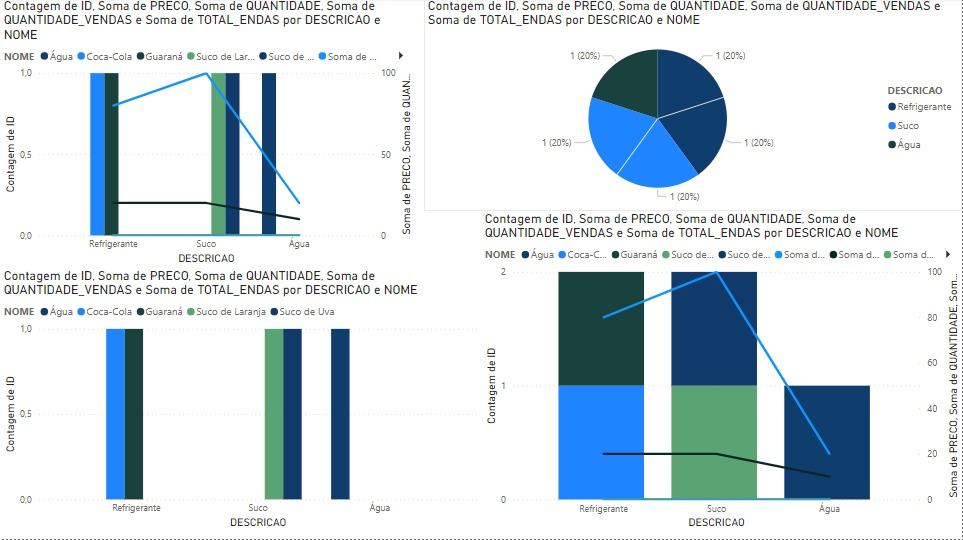

This screenshot's page, from the dashboard's own definition file:
{"tool":"powerbi","page":{"name":"Página 1","canvas":[1280,720],"ordinal":0},"visuals":[{"type":"lineClusteredColumnComboChart","fields":{"Category":["bebidas.DESCRICAO"],"Y":["CountNonNull(bebidas.ID)"],"Series":["bebidas.NOME"],"Y2":["Sum(bebidas.PRECO)","Sum(bebidas.QUANTIDADE)","Sum(bebidas.QUANTIDADE_VENDAS)","Sum(bebidas.TOTAL_ENDAS)"]},"box":[0,0,552.7,359.5],"z":0},{"type":"pieChart","fields":{"Category":["bebidas.DESCRICAO"],"Y":["CountNonNull(bebidas.ID)"],"Series":["bebidas.NOME"]},"box":[564.4,0,715.6,283.9],"z":1},{"type":"lineStackedColumnComboChart","fields":{"Category":["bebidas.DESCRICAO"],"Y":["CountNonNull(bebidas.ID)"],"Series":["bebidas.NOME"],"Y2":["Sum(bebidas.PRECO)","Sum(bebidas.QUANTIDADE)","Sum(bebidas.QUANTIDADE_VENDAS)","Sum(bebidas.TOTAL_ENDAS)"]},"box":[640,283.9,640,426.7],"z":2},{"type":"clusteredColumnChart","fields":{"Category":["bebidas.DESCRICAO"],"Y":["CountNonNull(bebidas.ID)"],"Series":["bebidas.NOME"]},"box":[0,359.5,640,351.1],"z":3}]}

Visuals, with their boxes in screenshot pixels (x1, y1, x2, y2), scaled from the page's 1280x720 canvas onto the 963x540 screenshot:
lineClusteredColumnComboChart - bebidas.DESCRICAO x CountNonNull(bebidas.ID): 0:0:416:270
pieChart - bebidas.DESCRICAO x CountNonNull(bebidas.ID): 425:0:962:213
lineStackedColumnComboChart - bebidas.DESCRICAO x CountNonNull(bebidas.ID): 482:213:962:533
clusteredColumnChart - bebidas.DESCRICAO x CountNonNull(bebidas.ID): 0:270:482:533
